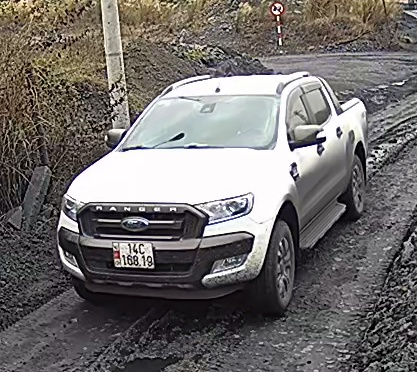vehicle plate: (109, 238, 161, 273)
